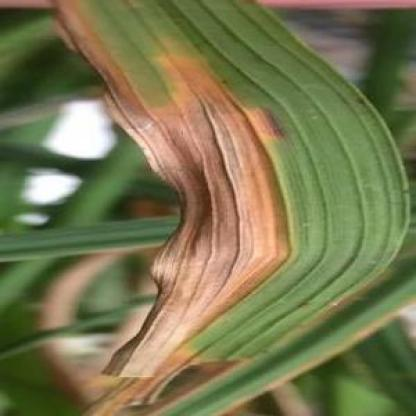Blight: (54, 2, 416, 416), (52, 1, 416, 410)
